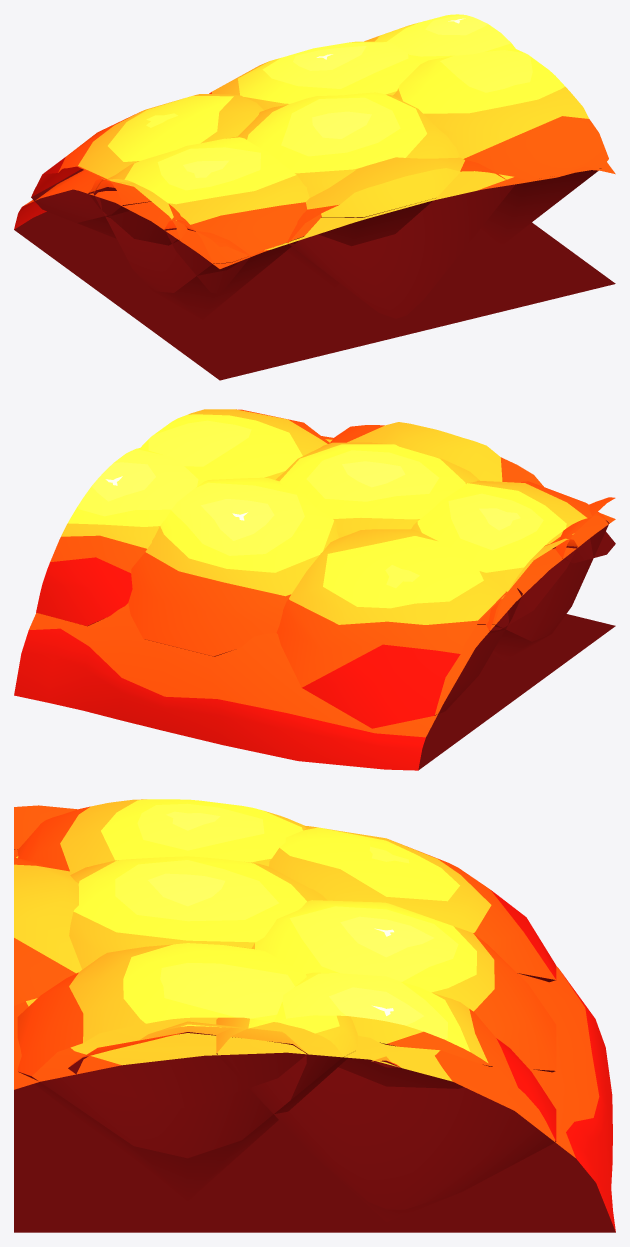
The model's file is shot_dflame_10.glb.
3 renders of one model, top to bottom at view 1: azimuth 30°, elevation 25°; view 2: azimuth 150°, elevation 25°; view 3: azimuth 270°, elevation 25°, orthographic. The views are drawn at different scales.
Parts seen in each view (by area): view 1: dflame_wall_bed_b10, dflame_wall_billow7_b10, dflame_wall_billow4_b10, dflame_wall_billow3_b10, dflame_wall_billow11_b10, dflame_wall_billow8_b10, dflame_wall_billow2_b10, dflame_wall_billow0_b10, dflame_wall_billow10_b10, dflame_wall_billow5_b10; view 2: dflame_wall_bed_b10, dflame_wall_billow8_b10, dflame_wall_billow2_b10, dflame_wall_billow0_b10, dflame_wall_billow4_b10, dflame_wall_billow3_b10, dflame_wall_billow7_b10, dflame_wall_billow11_b10, dflame_wall_billow10_b10, dflame_wall_billow5_b10; view 3: dflame_wall_bed_b10, dflame_wall_billow0_b10, dflame_wall_billow7_b10, dflame_wall_billow2_b10, dflame_wall_billow3_b10, dflame_wall_billow8_b10, dflame_wall_billow4_b10, dflame_wall_billow1_b10, dflame_wall_billow11_b10, dflame_wall_billow5_b10.
Part boxes in pixels (x1=…): dflame_wall_bed_b10: x1=14, y1=162, x2=615, y2=380; dflame_wall_billow7_b10: x1=393, y1=49, x2=608, y2=246; dflame_wall_billow4_b10: x1=93, y1=136, x2=321, y2=319; dflame_wall_billow3_b10: x1=238, y1=92, x2=460, y2=287; dflame_wall_billow11_b10: x1=287, y1=157, x2=514, y2=318; dflame_wall_billow8_b10: x1=31, y1=94, x2=263, y2=238; dflame_wall_billow2_b10: x1=209, y1=41, x2=420, y2=110; dflame_wall_billow0_b10: x1=364, y1=14, x2=515, y2=64; dflame_wall_billow10_b10: x1=88, y1=178, x2=187, y2=245; dflame_wall_billow5_b10: x1=164, y1=220, x2=250, y2=294; dflame_wall_bed_b10: x1=14, y1=436, x2=615, y2=770; dflame_wall_billow8_b10: x1=276, y1=529, x2=522, y2=728; dflame_wall_billow2_b10: x1=128, y1=477, x2=338, y2=656; dflame_wall_billow0_b10: x1=36, y1=448, x2=207, y2=626; dflame_wall_billow4_b10: x1=411, y1=480, x2=609, y2=660; dflame_wall_billow3_b10: x1=275, y1=442, x2=479, y2=537; dflame_wall_billow7_b10: x1=140, y1=409, x2=329, y2=479; dflame_wall_billow11_b10: x1=330, y1=422, x2=543, y2=486; dflame_wall_billow10_b10: x1=486, y1=538, x2=577, y2=631; dflame_wall_billow5_b10: x1=555, y1=497, x2=615, y2=563; dflame_wall_bed_b10: x1=14, y1=849, x2=615, y2=1232; dflame_wall_billow0_b10: x1=216, y1=972, x2=556, y2=1221; dflame_wall_billow7_b10: x1=17, y1=943, x2=357, y2=1200; dflame_wall_billow2_b10: x1=251, y1=900, x2=556, y2=1088; dflame_wall_billow3_b10: x1=69, y1=856, x2=327, y2=969; dflame_wall_billow8_b10: x1=269, y1=826, x2=556, y2=982; dflame_wall_billow4_b10: x1=17, y1=799, x2=306, y2=872; dflame_wall_billow1_b10: x1=68, y1=1021, x2=307, y2=1109; dflame_wall_billow11_b10: x1=14, y1=857, x2=81, y2=1005; dflame_wall_billow5_b10: x1=14, y1=805, x2=76, y2=849.
Bounding box in the file's own units: 12 × 4.9 × 12.13.
